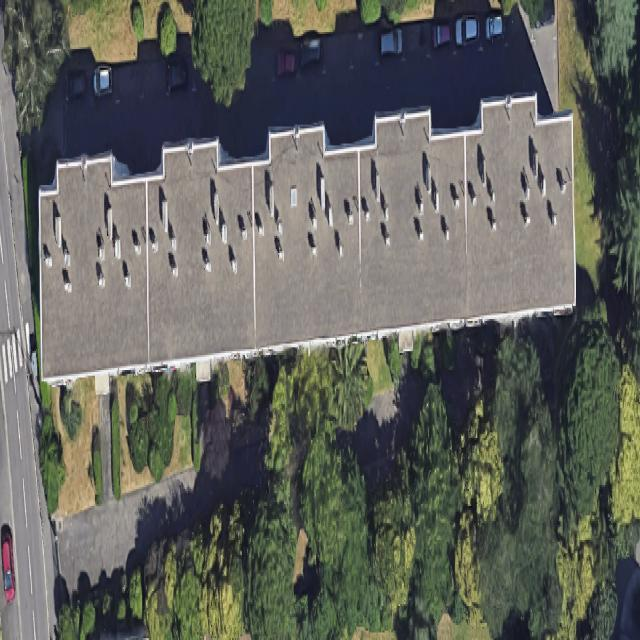immeuble: (9, 80, 599, 386)
